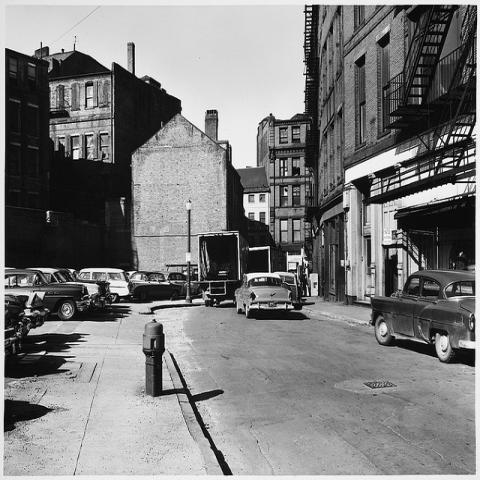car: (369, 270, 475, 362), (5, 270, 91, 322), (24, 267, 91, 312), (234, 272, 294, 317), (77, 269, 134, 301), (128, 272, 184, 302), (2, 294, 49, 326), (6, 297, 34, 348), (274, 272, 301, 305), (155, 271, 188, 295), (52, 268, 75, 281), (68, 268, 82, 283)
truck: (196, 234, 240, 301), (250, 246, 285, 273), (165, 264, 199, 281)
